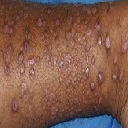Dystrophic Bullosa: (4, 6, 112, 90)
